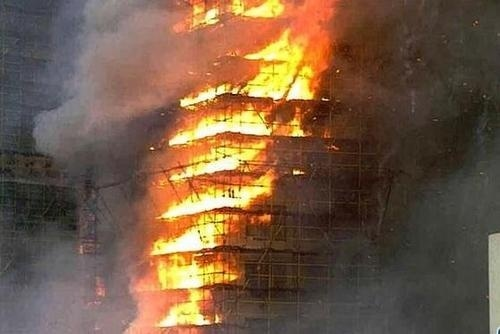fire: (152, 23, 322, 324)
